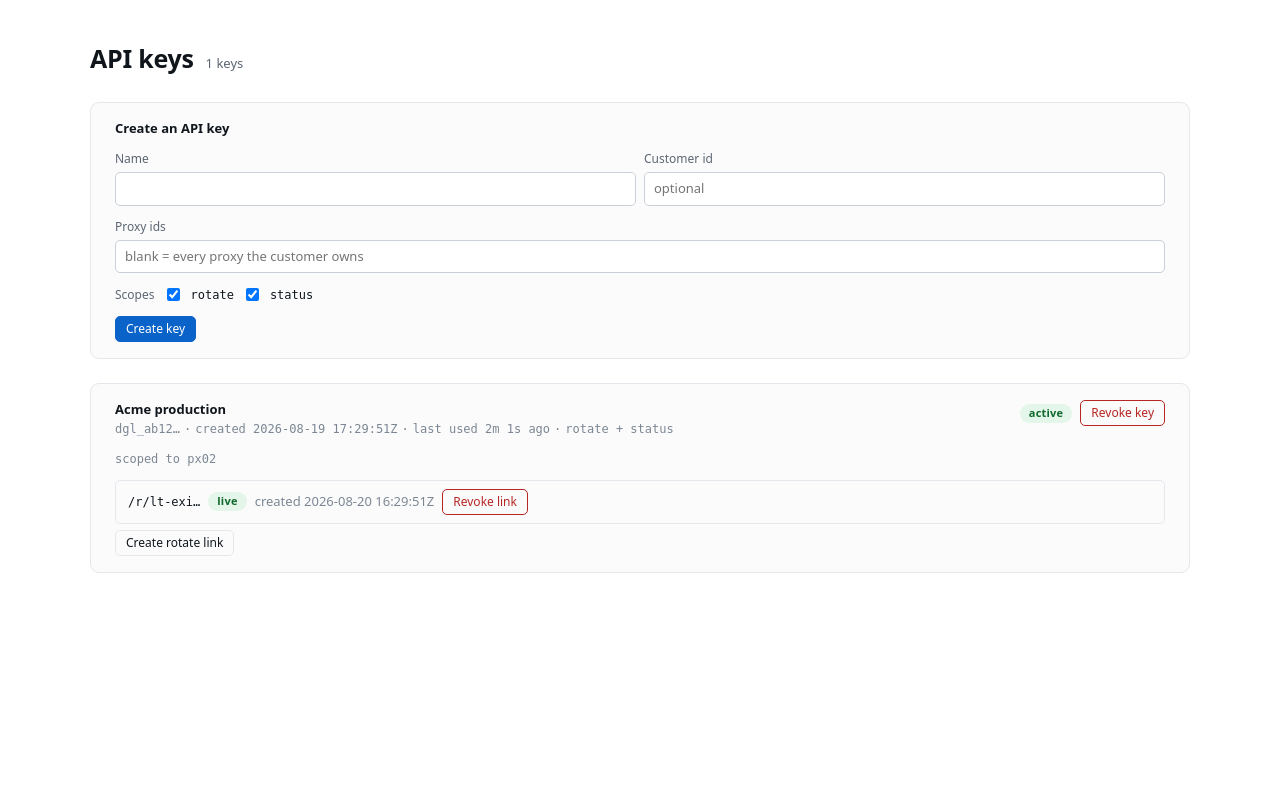
Scenario: api keys › shows a new key secret exactly once and never again
Expected: the text "Acme production" is shown, [115, 400, 226, 418]
Type "New customer" into the field labelled "Name".
click(376, 189); type("New customer")  # box [115, 172, 636, 206]
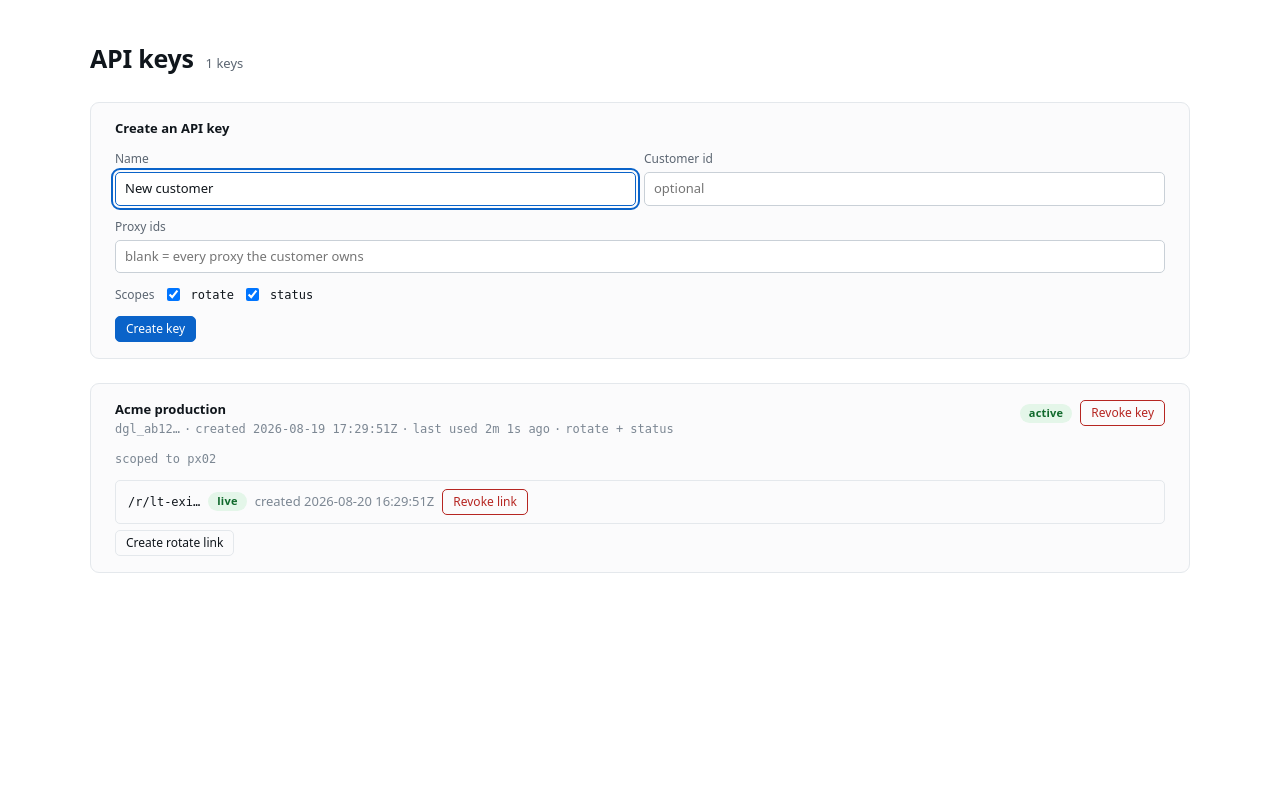
Click the button "Create key".
click(156, 329)  # box [115, 316, 196, 342]
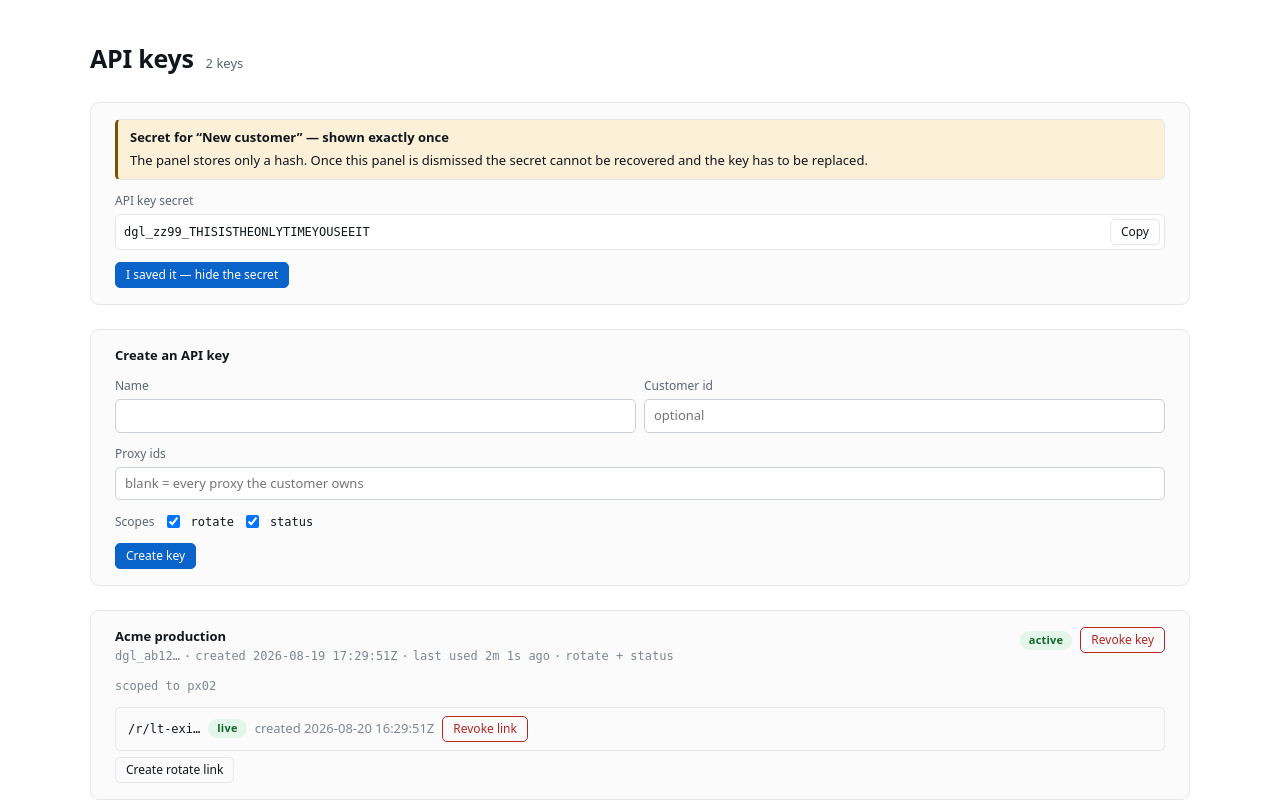
Result: the text "dgl_zz99_THISISTHEONLYTIMEYOUSEEIT" is shown at [124, 224, 370, 238]
Result: the text "Secret for “New customer” — shown exactly once" is shown at [130, 128, 449, 146]
Click the button "I saved it — hide the secret".
click(202, 274)  # box [115, 262, 289, 288]
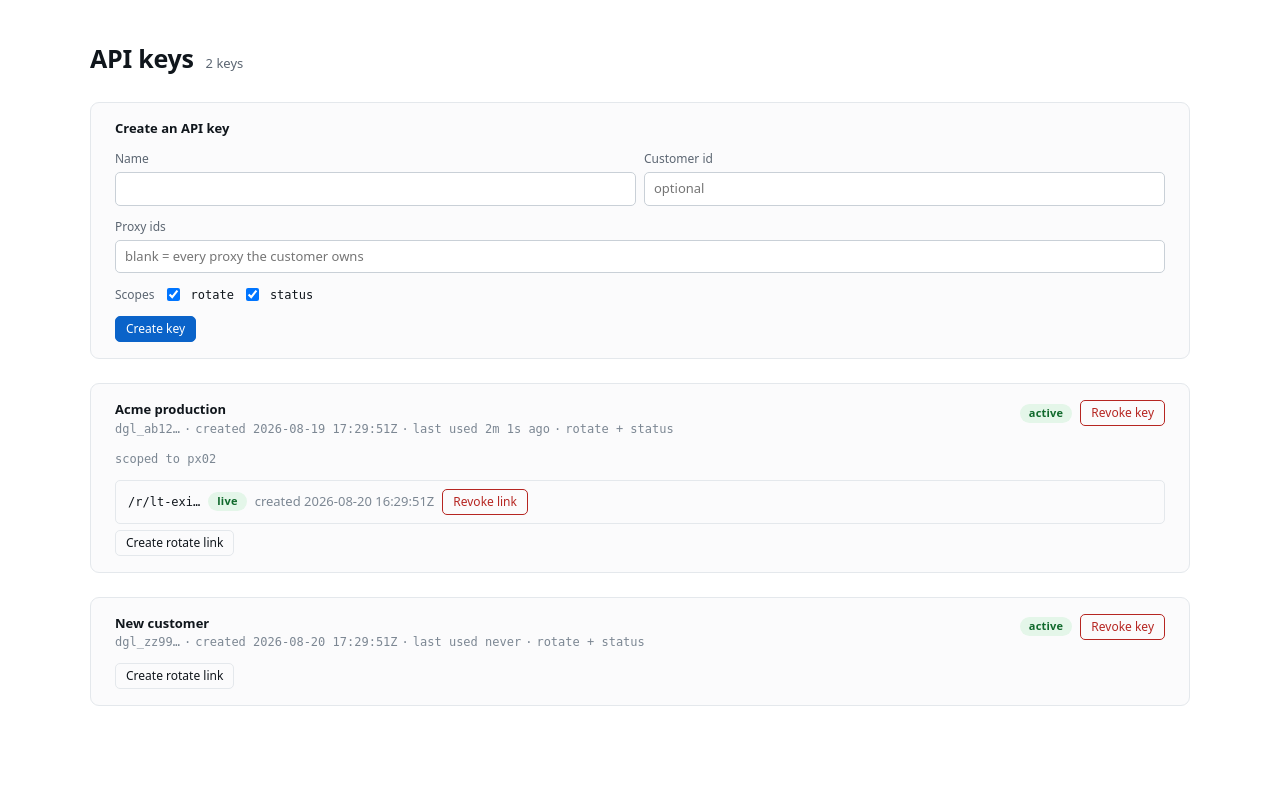
Result: the text "New customer" is shown at [115, 614, 209, 632]
Result: the text "dgl_zz99_THISISTHEONLYTIMEYOUSEEIT" is gone
